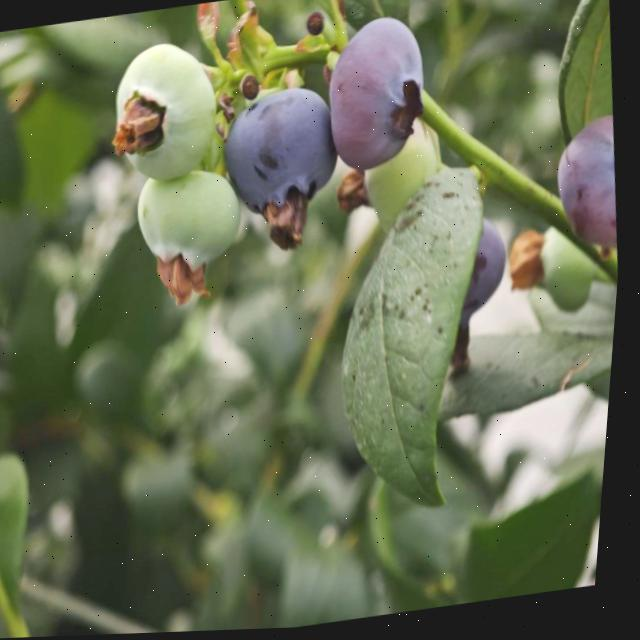RipeBlueBerry: (217, 81, 348, 223)
Semi-RipeBlueBerry: (320, 13, 438, 177)
UnripeBlueBerry: (106, 34, 230, 192), (132, 162, 253, 284)
